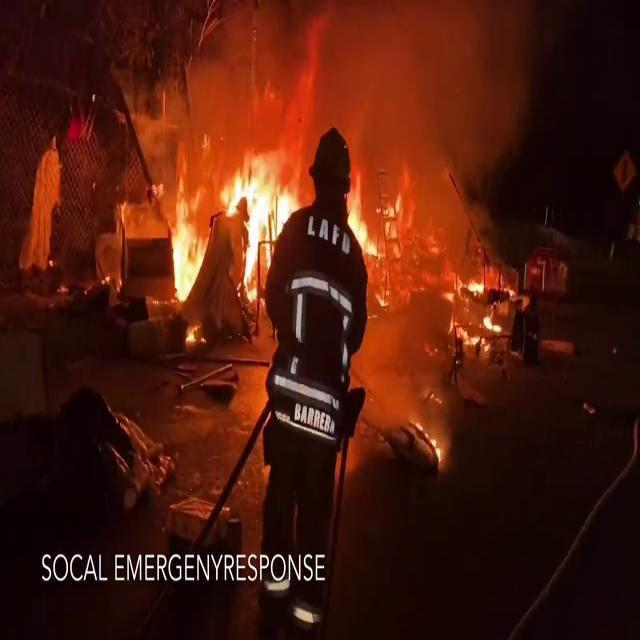Fire: (157, 137, 293, 309), (345, 170, 402, 266), (447, 268, 501, 350)
Smoke: (149, 0, 550, 211)
